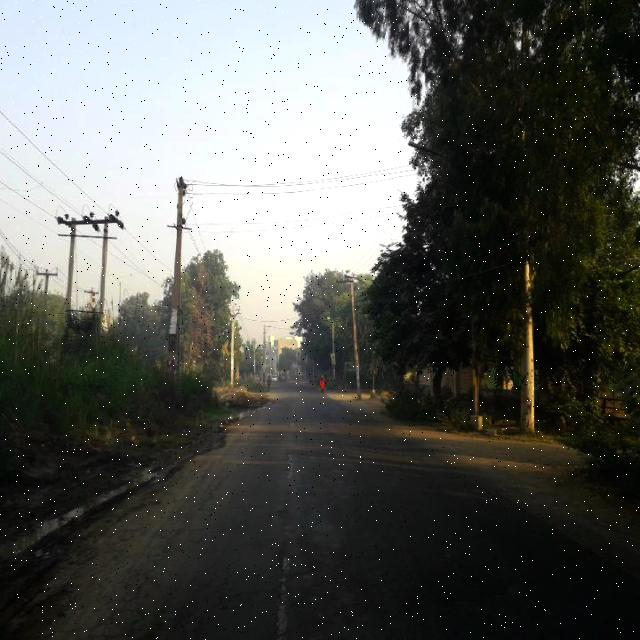D20: (125, 508, 415, 634)
D44: (267, 541, 301, 639)
